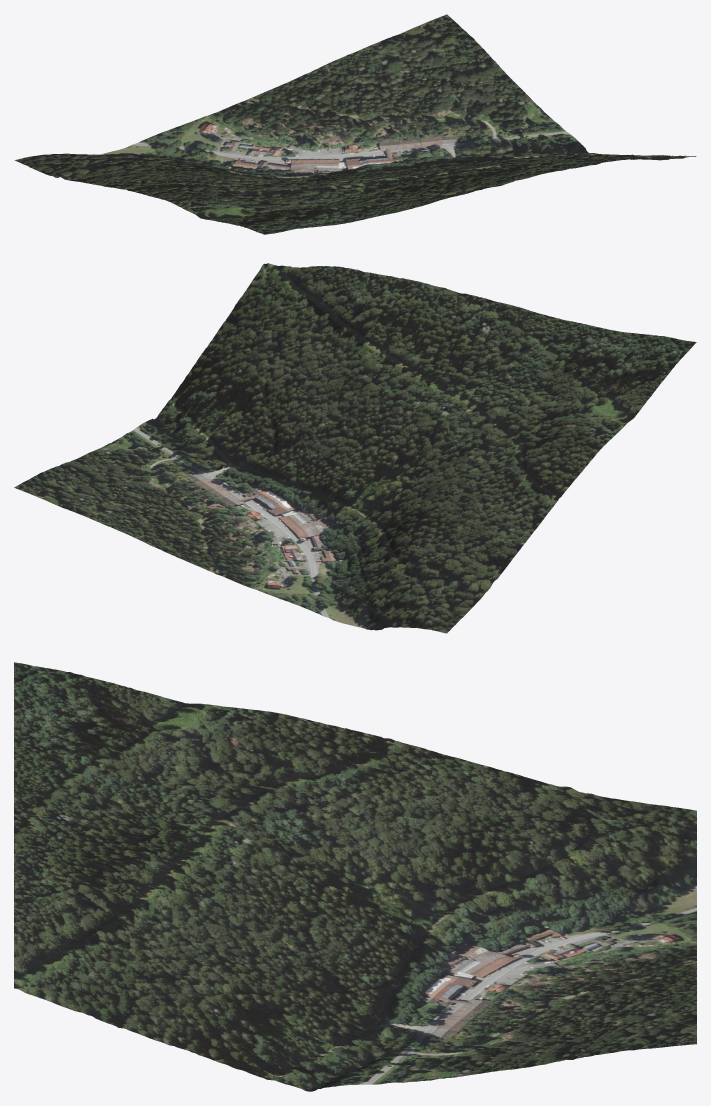
File: terrain_2_3.glb
3 views of the same model, one above another, from view 1: azimuth 30°, elevation 25°; view 2: azimuth 150°, elevation 25°; view 3: azimuth 270°, elevation 25° (orthographic). The views are drawn at different scales.
Visible parts, largest first — view 1: geometry_0; view 2: geometry_0; view 3: geometry_0.
Boxes of the visible parts, box(x1,y1,x2,y2) form: geometry_0: box(14, 14, 696, 234); geometry_0: box(14, 263, 696, 633); geometry_0: box(14, 662, 696, 1091).
Size of the model in its own units: 499 by 137 by 499.
Materials: 1 (1 with a texture image).
